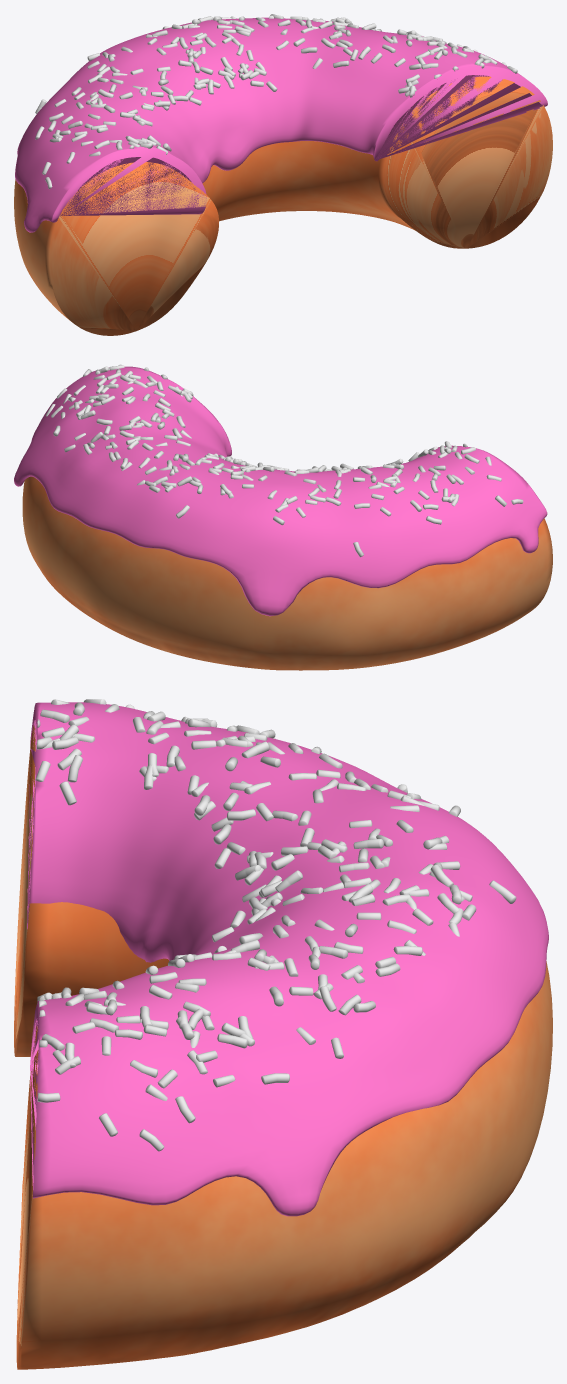
Rendered from Top.fbx.
The picture shows the model from 3 angles, top to bottom: view 1: azimuth 30°, elevation 25°; view 2: azimuth 150°, elevation 25°; view 3: azimuth 270°, elevation 25°; orthographic projection. The views are drawn at different scales.
Visible parts, largest first — view 1: Icing_Torus.005, Donut_Torus.002, Sprinkle.002_Sphere; view 2: Icing_Torus.005, Donut_Torus.002, Sprinkle.002_Sphere; view 3: Icing_Torus.005, Donut_Torus.002, Sprinkle.002_Sphere.
Part boxes in pixels (x1,y1,x2,y2): Icing_Torus.005: (15,17,547,232); Donut_Torus.002: (14,76,552,335); Sprinkle.002_Sphere: (35,14,517,189); Icing_Torus.005: (14,366,547,616); Donut_Torus.002: (22,476,552,670); Sprinkle.002_Sphere: (45,364,523,557); Icing_Torus.005: (27,702,548,1216); Donut_Torus.002: (14,725,552,1369); Sprinkle.002_Sphere: (35,699,516,1151).
Size of the model in its own units: 15.88 by 5.57 by 8.
